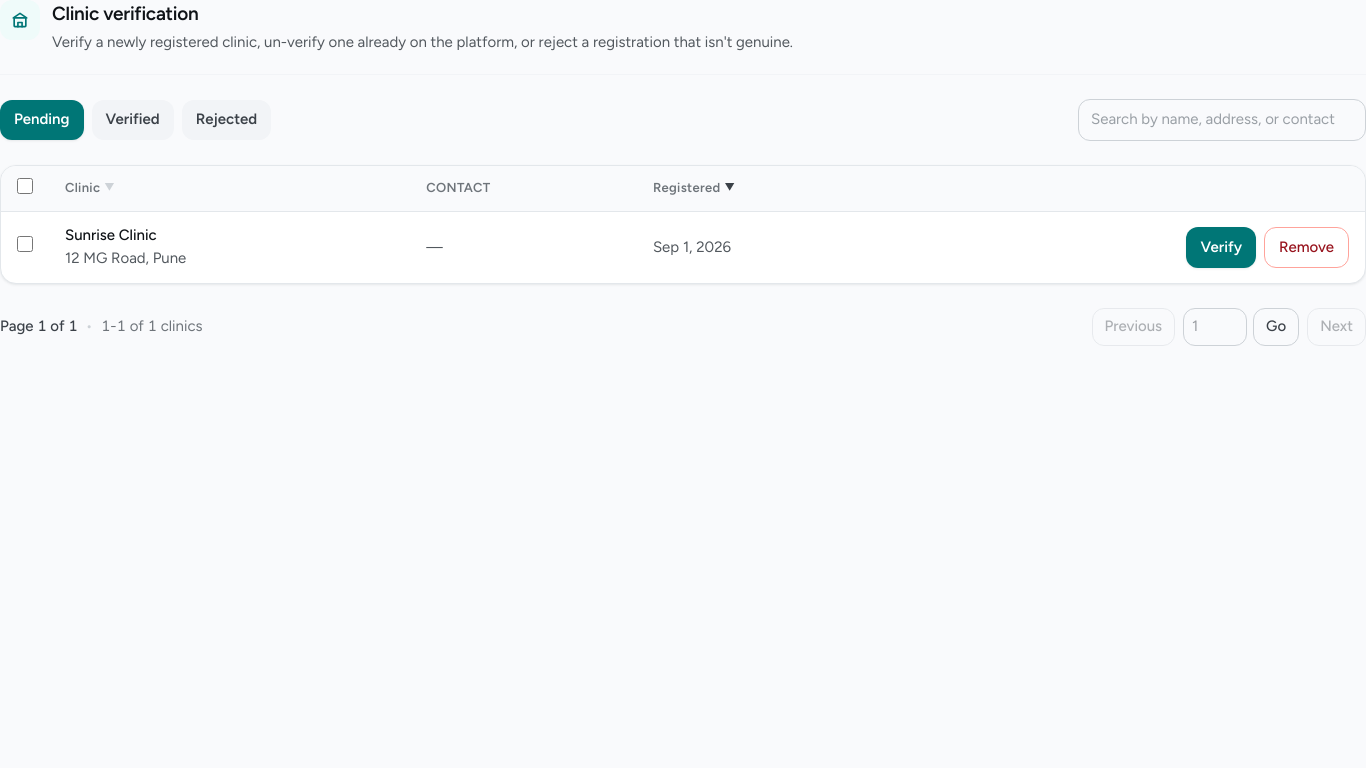
Test: PendingClinicsList › resets the clinic admin password and shows the new credential exactly once
Expected: the text "Sunrise Clinic" is shown, [65,226,157,244]
Click the tab "Verified": [133, 120] box [92,100,174,140]
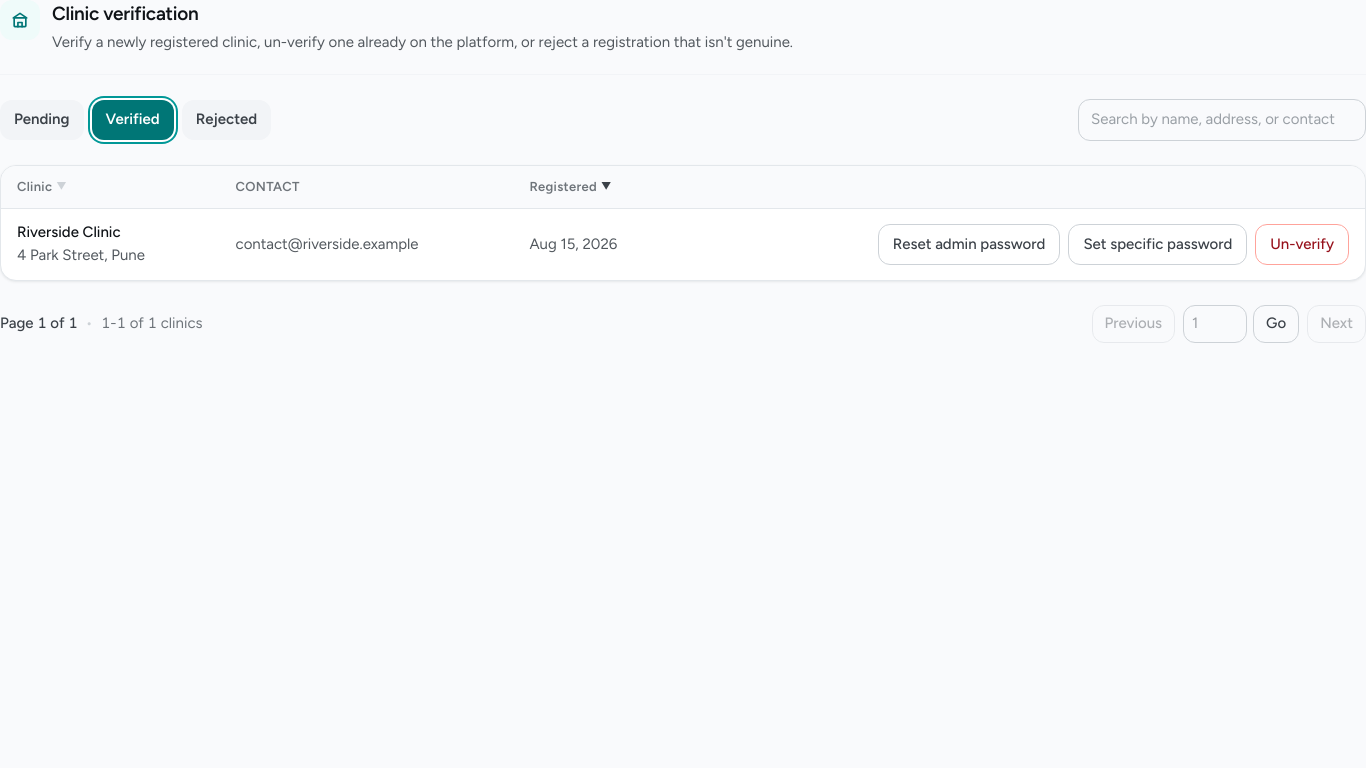
Click the button "Reset admin password": [969, 244] box [878,224,1060,265]
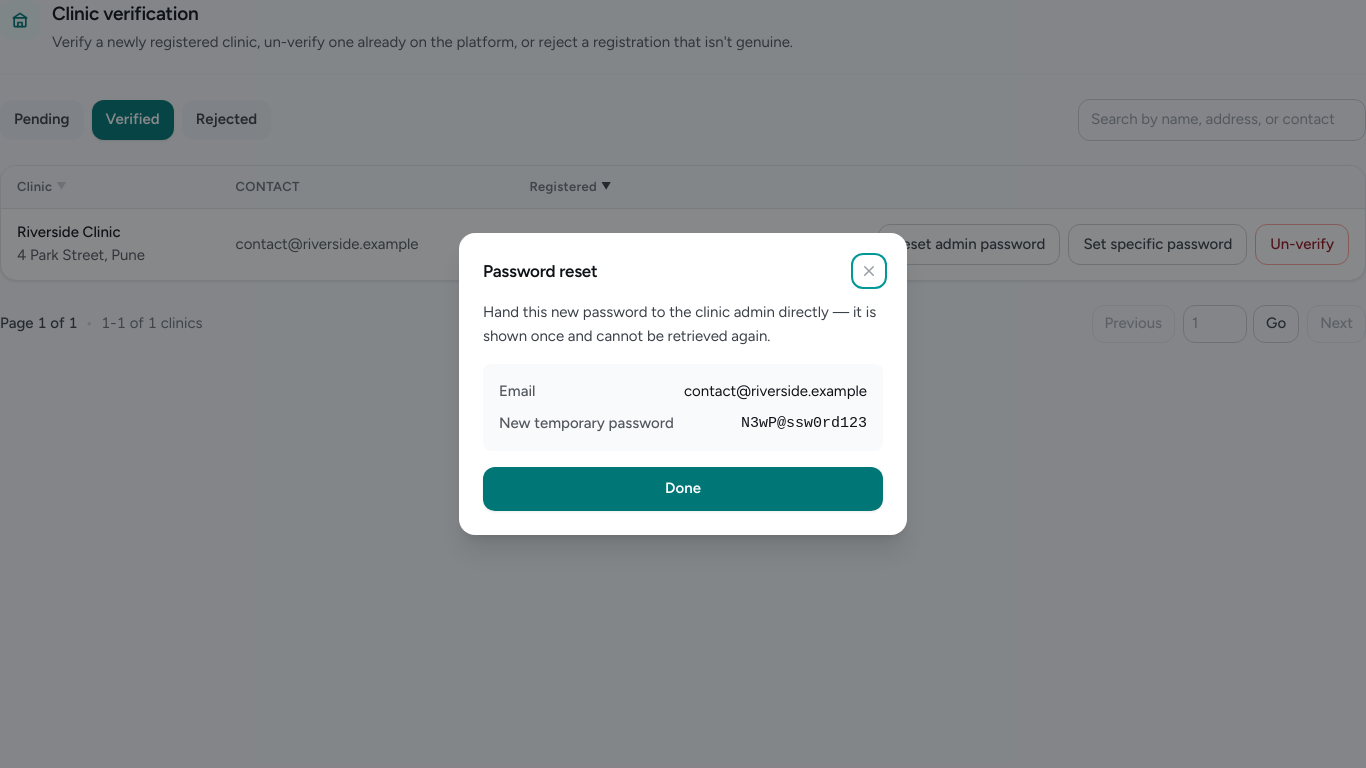
Result: the text "contact@riverside.example" is shown at [684,380,867,404]
Result: the text "N3wP@ssw0rd123" is shown at [741,412,867,435]
Click the button "Done": [683, 489] box [483,467,883,511]
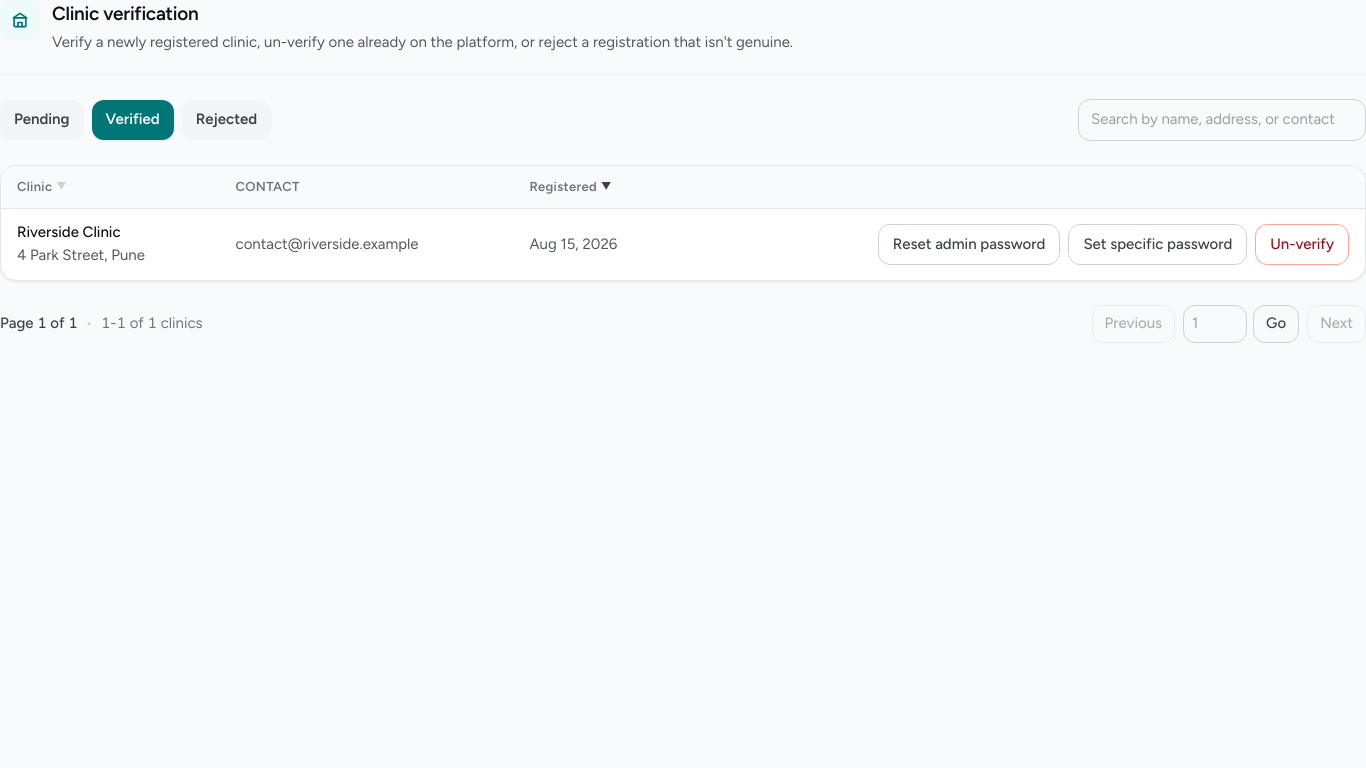
Result: the heading "Password reset" is gone
